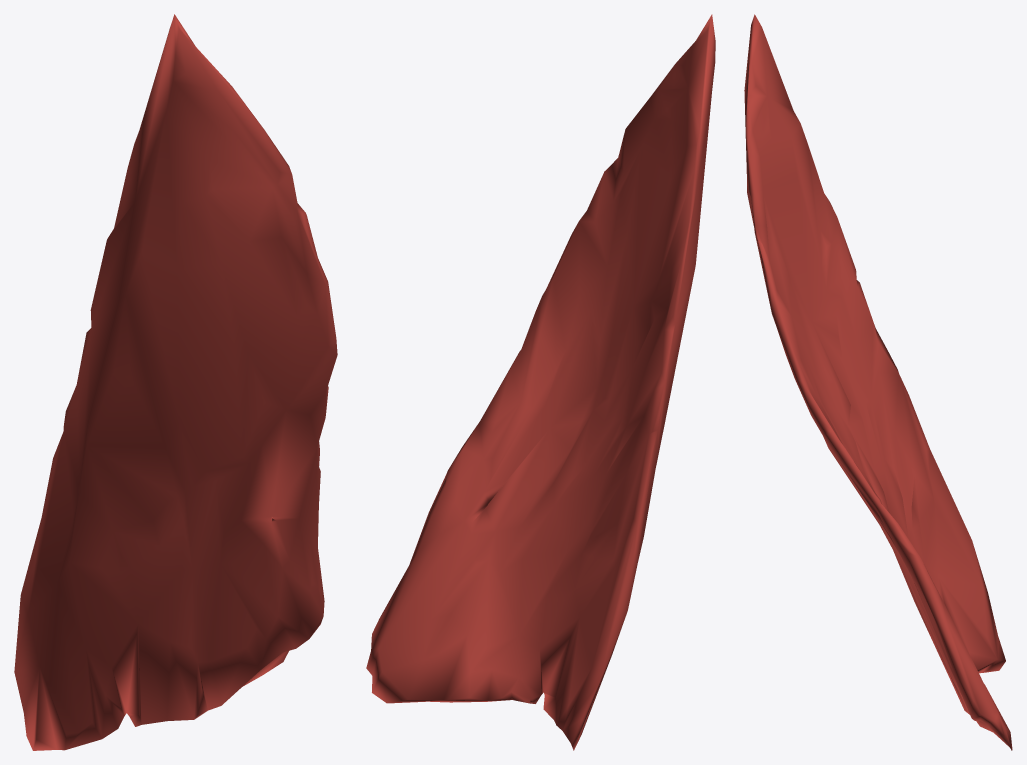
File: musculos-pyramidalis-muscle-l.glb
3 views of the same model, side by side, from view 1: azimuth 30°, elevation 25°; view 2: azimuth 150°, elevation 25°; view 3: azimuth 270°, elevation 25° (orthographic). The views are drawn at different scales.
Visible parts, largest first — view 1: Pyramidalis muscle.l; view 2: Pyramidalis muscle.l; view 3: Pyramidalis muscle.l.
Part boxes in pixels (x1,y1,x2,y2): Pyramidalis muscle.l: [14, 14, 337, 750]; Pyramidalis muscle.l: [366, 14, 715, 750]; Pyramidalis muscle.l: [744, 14, 1012, 750].
Size of the model in its own units: 0.0279 by 0.0717 by 0.0268.
